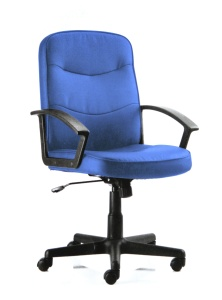chair: (30, 31, 199, 285)
